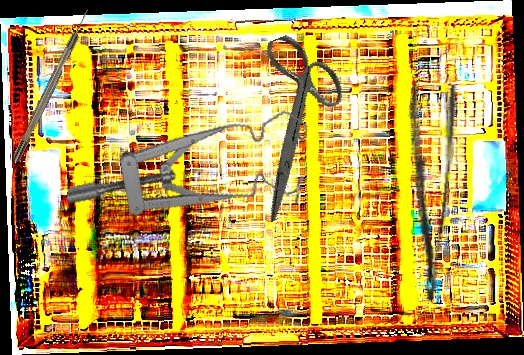Dressing Forceps: (389, 80, 461, 303)
Hook Surgical: (10, 7, 93, 164)
Iris Scissors: (205, 22, 381, 224)
Speculum: (65, 70, 317, 251)
